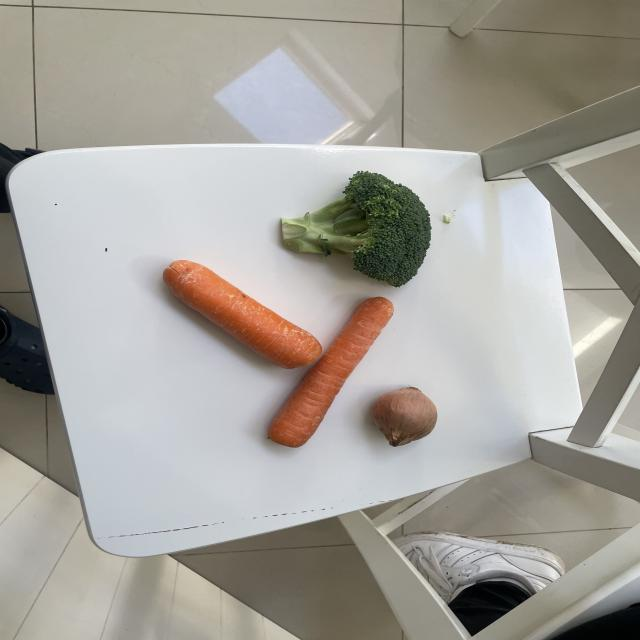Broccoli: (277, 170, 434, 288)
Carrot: (265, 294, 397, 450), (161, 257, 324, 372)
Onion: (370, 385, 440, 446)
